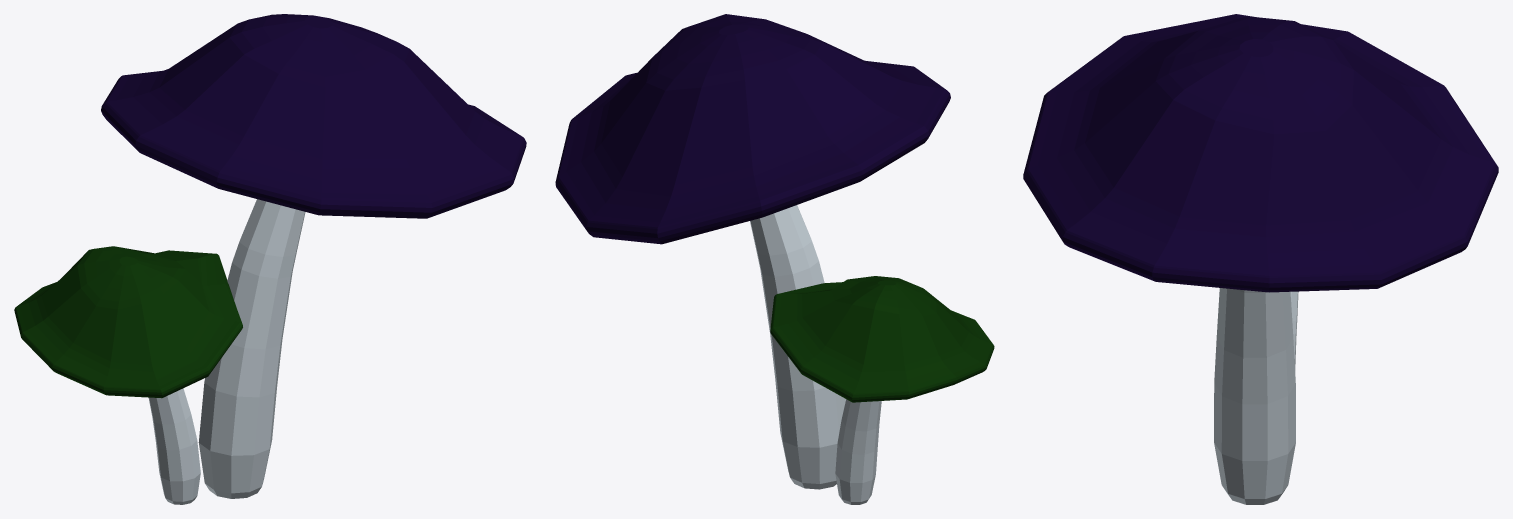
The model's file is mushroom.fbx.
The picture shows the model from 3 angles, left to right: view 1: azimuth 30°, elevation 25°; view 2: azimuth 150°, elevation 25°; view 3: azimuth 270°, elevation 25°; orthographic projection. The views are drawn at different scales.
Parts seen in each view (by area): view 1: stem 1; view 2: stem 1; view 3: stem 1.
Part boxes in pixels (bbox=[...]): stem 1: bbox=[14, 14, 526, 504]; stem 1: bbox=[555, 14, 994, 504]; stem 1: bbox=[1023, 14, 1498, 504].
Size of the model in its own units: 1991 by 2004 by 1734.
